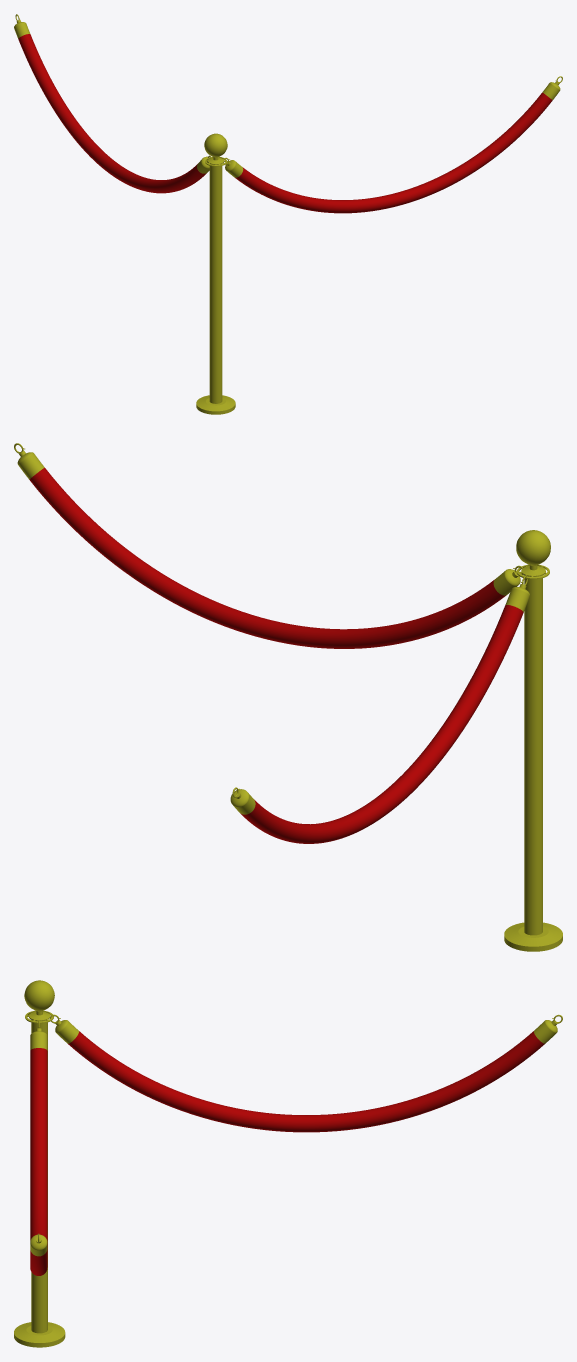
Rendered from RopeGuardCornerConnector.fbx.
The picture shows the model from 3 angles, top to bottom: view 1: azimuth 30°, elevation 25°; view 2: azimuth 150°, elevation 25°; view 3: azimuth 270°, elevation 25°; orthographic projection. The views are drawn at different scales.
Parts seen in each view (by area): view 1: pCylinder22; view 2: pCylinder22; view 3: pCylinder22.
Boxes of the visible parts, bbox=[...] form: pCylinder22: bbox=[14, 14, 562, 414]; pCylinder22: bbox=[14, 443, 562, 951]; pCylinder22: bbox=[14, 980, 562, 1347].
Bounding box in the file's own units: 20.05 × 14.31 × 20.07.
